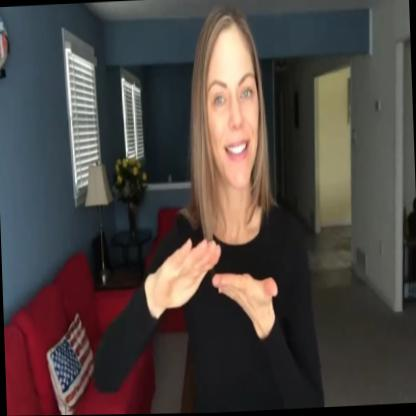NiceToMeetYou: (87, 0, 325, 415)
